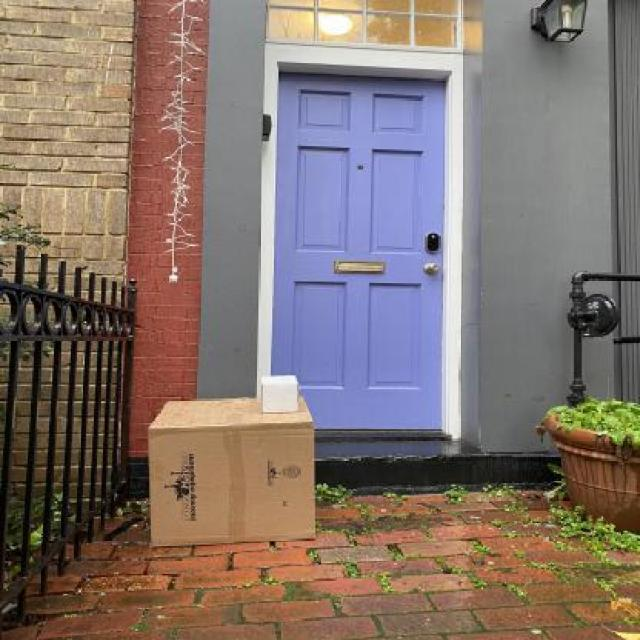box: (152, 395, 320, 547), (262, 375, 301, 413)
